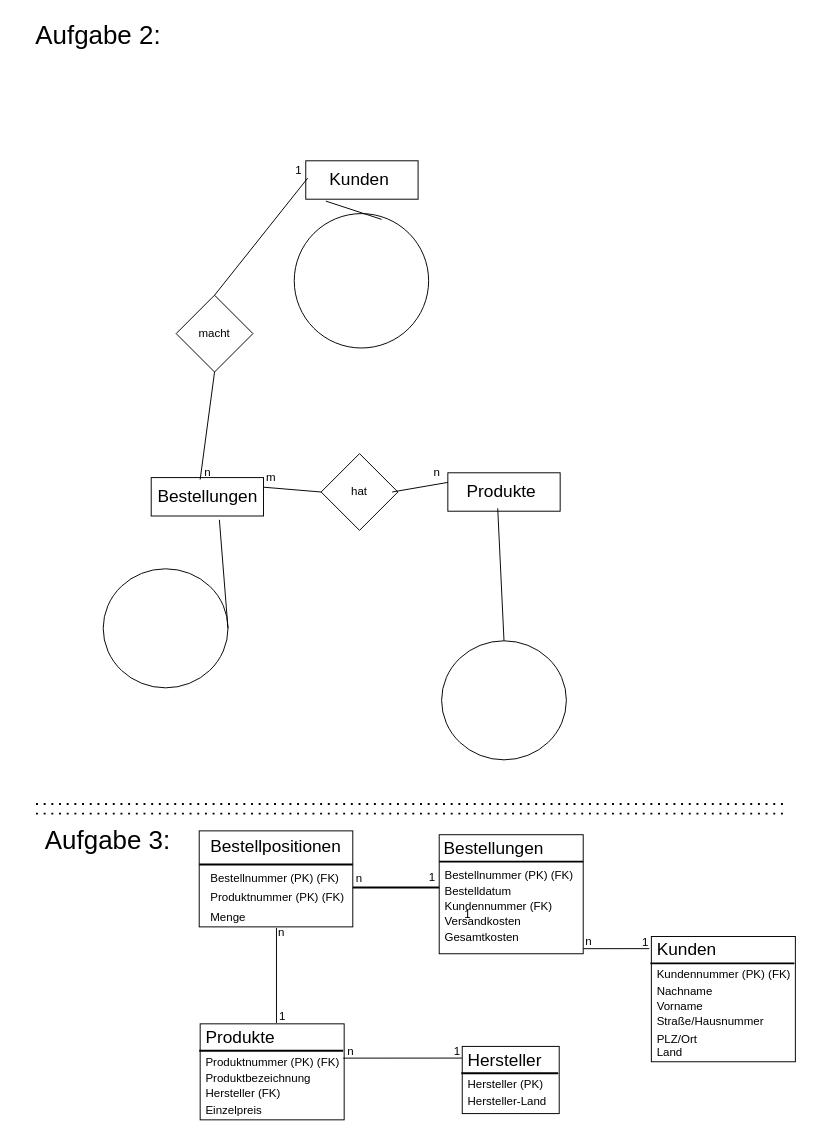
Image size: 815x1137. Some labels were removed from this diagram. Here are the shapes that lost their labels. From the top down, the centre of each, then its label:
(361,280): Kundenummer Nachname Vorname Straße/Hausnummer PLZ/Ort Land
(165,628): Bestellnummer Bestelldatum Kundenummer Versandkosten Gesamtkosten Menge
(503,700): Produktnummer Produktbezeichnung Hersteller Hersteller-Land Einzelpreis
